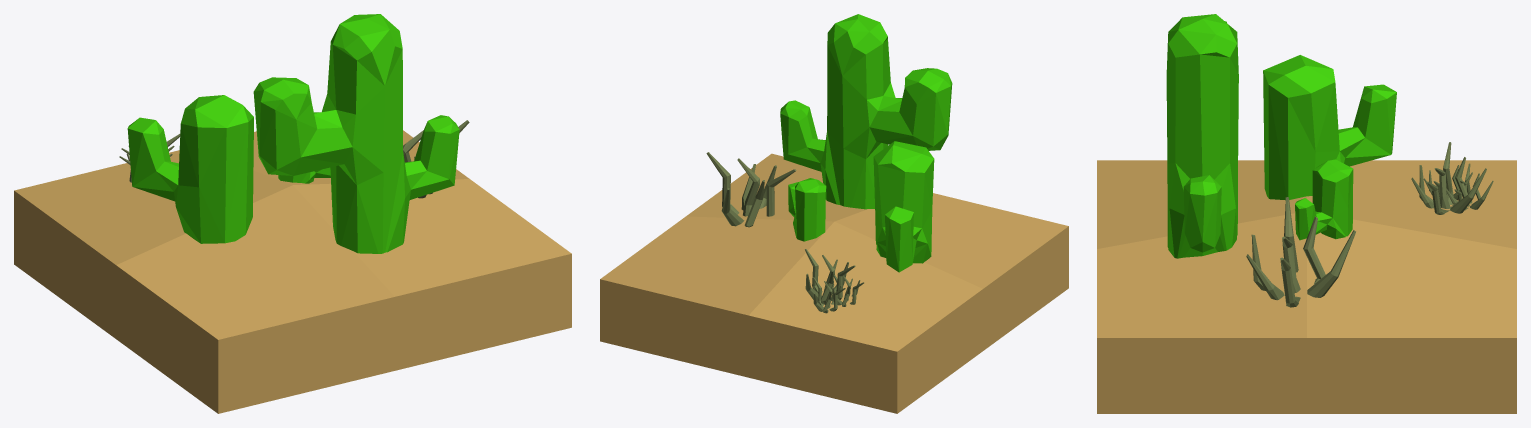
The model's file is Cactus.fbx.
3 views of the same model, side by side, from view 1: azimuth 30°, elevation 25°; view 2: azimuth 150°, elevation 25°; view 3: azimuth 270°, elevation 25° (orthographic). The views are drawn at different scales.
Parts seen in each view (by area): view 1: Cube.002, Cube, Cube.001; view 2: Cube.002, Cube, Cube.001, Cube.003, Cube.004, Cube.005, Cube.007; view 3: Cube.002, Cube, Cube.001, Cube.004, Cube.003, Cube.005, Cube.007.
Part boxes in pixels (x1,y1,x2,y2): Cube.002: (14,130,571,413); Cube: (253,14,459,253); Cube.001: (127,95,253,243); Cube.002: (600,153,1068,413); Cube: (780,14,952,209); Cube.001: (873,141,934,272); Cube.003: (706,152,796,227); Cube.004: (788,178,826,241); Cube.005: (805,249,855,304); Cube.007: (813,277,845,313); Cube.002: (1097,160,1516,413); Cube: (1166,14,1238,258); Cube.001: (1263,55,1396,200); Cube.004: (1295,159,1353,240); Cube.003: (1246,197,1355,307); Cube.005: (1411,142,1486,214); Cube.007: (1446,163,1493,210).
Size of the model in its own units: 500 by 418 by 500.
